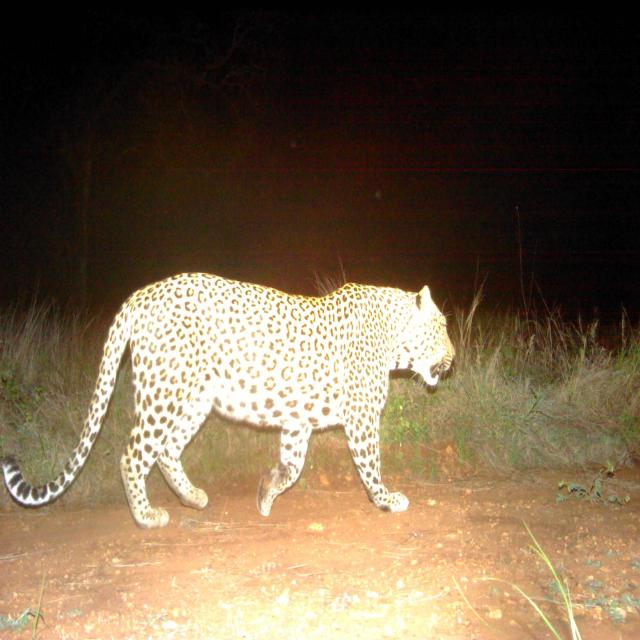Leopard: (19, 272, 443, 543)
